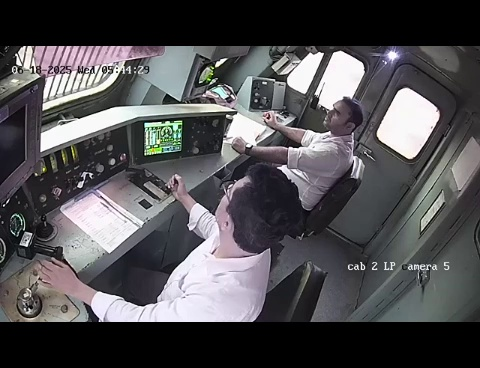brake_applied: (1, 253, 115, 322)
horn_inactive: (29, 212, 68, 243)
